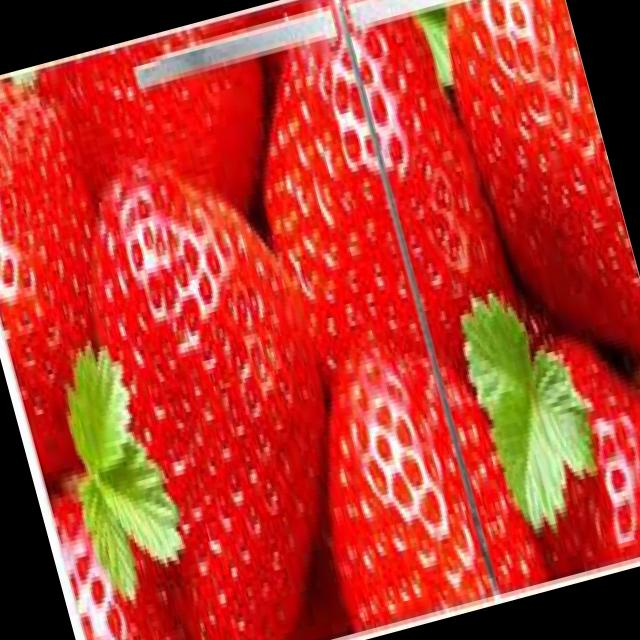strawberry: (36, 119, 391, 640)
